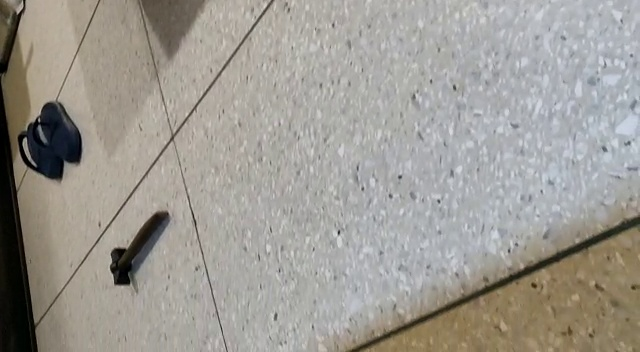hammer: (107, 210, 169, 289)
